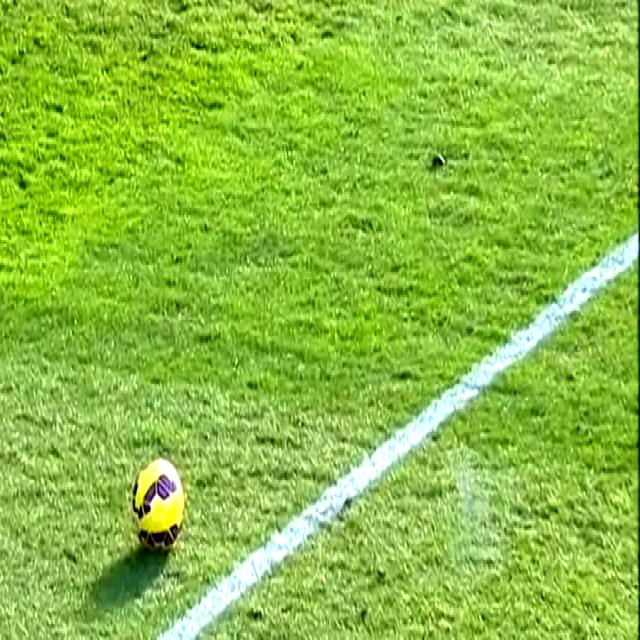ball: (120, 448, 187, 564)
